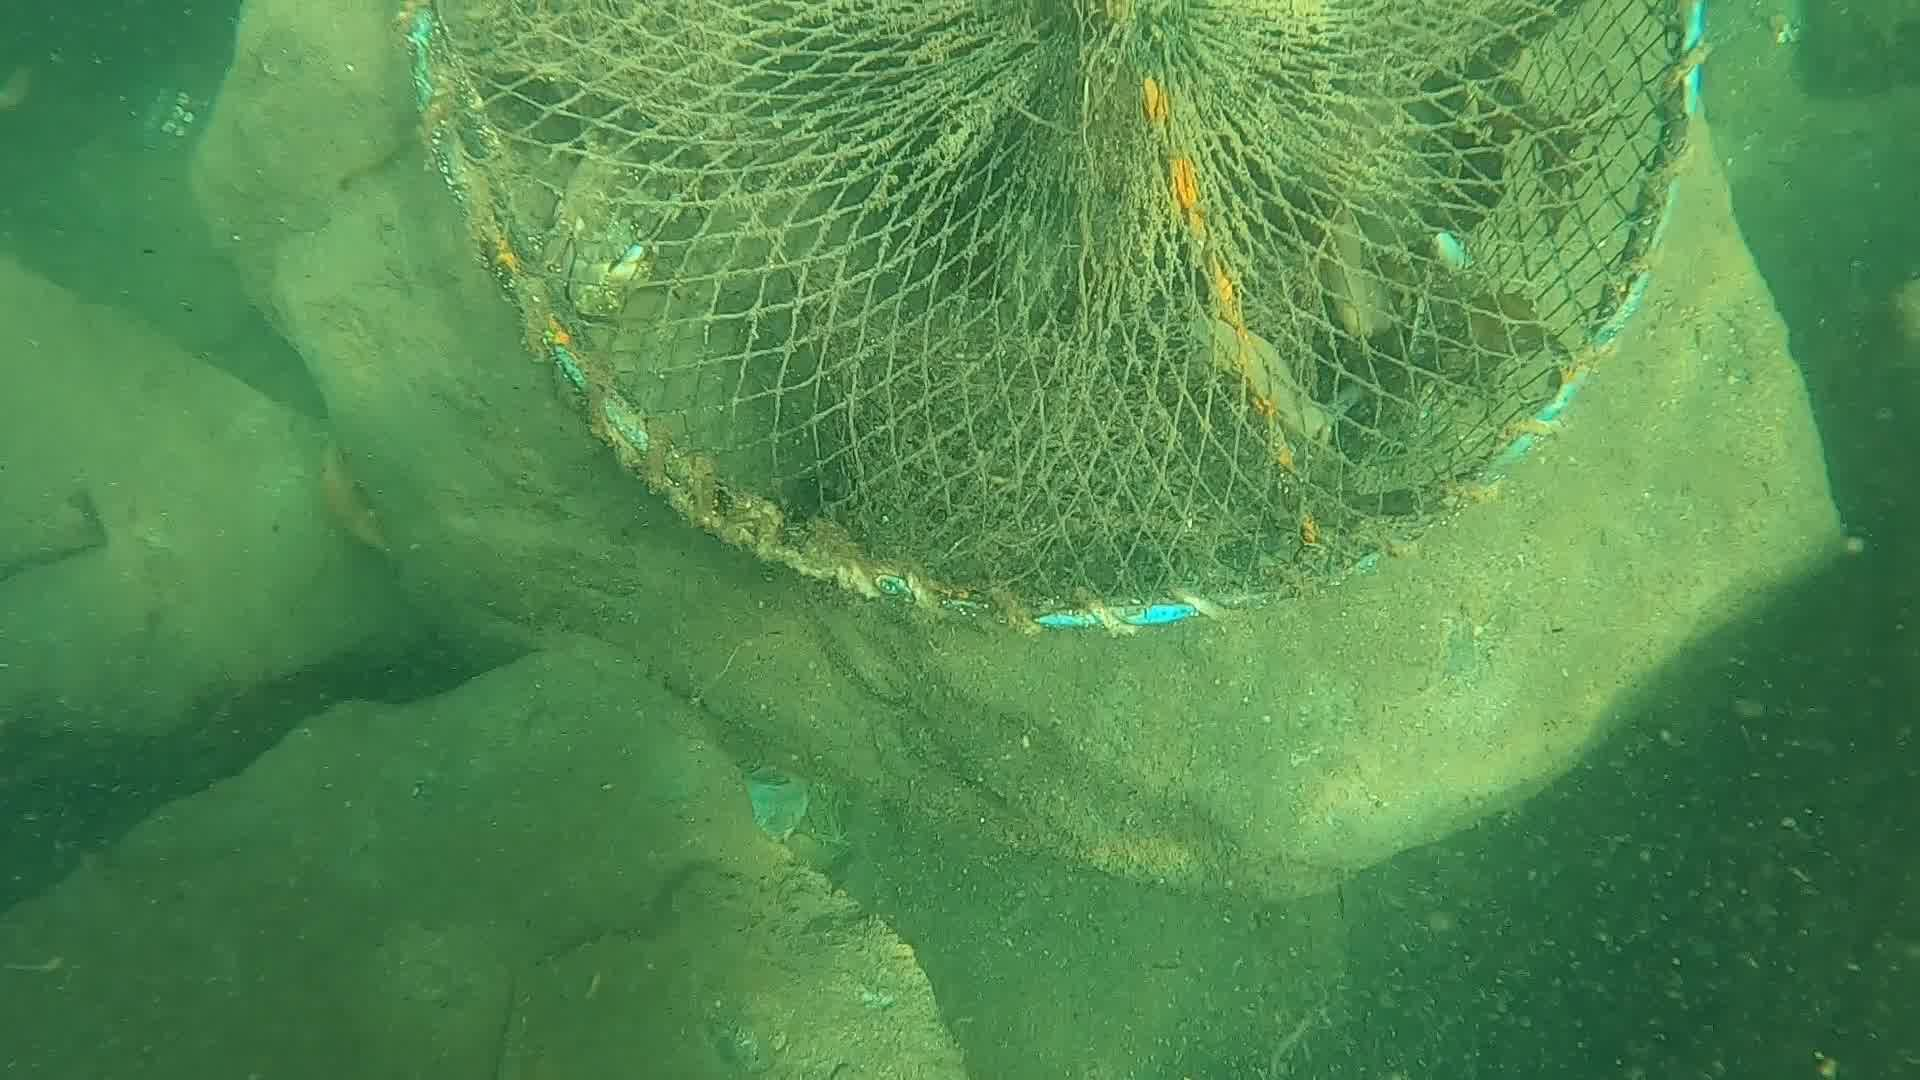circular fish trap: (398, 0, 1705, 626)
